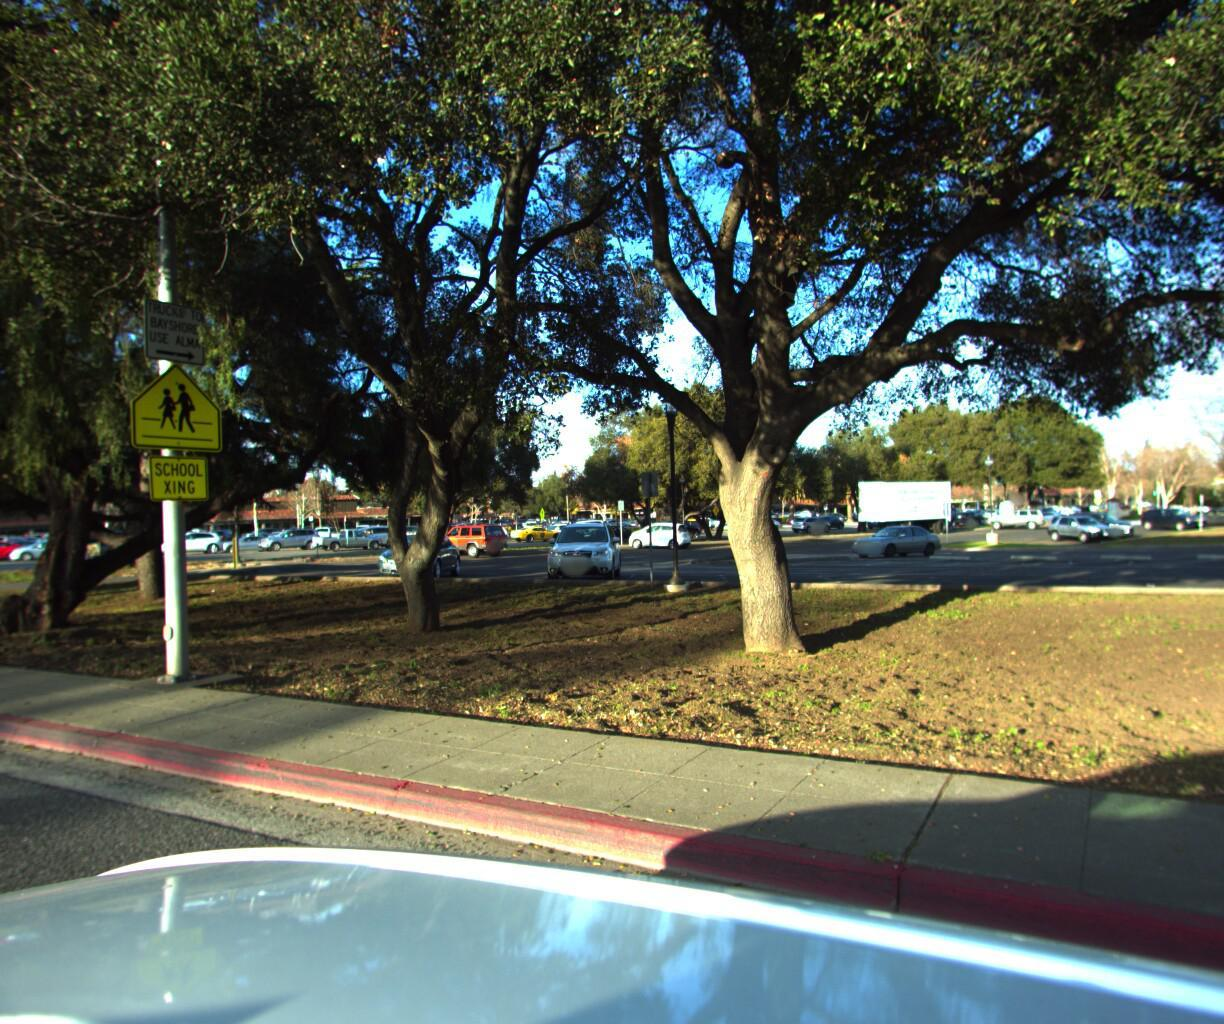car: (296, 516, 380, 547), (8, 529, 93, 556), (151, 522, 226, 550), (334, 517, 408, 544), (256, 519, 326, 545), (503, 518, 560, 544), (215, 527, 281, 549), (539, 510, 601, 534), (790, 511, 838, 532)
